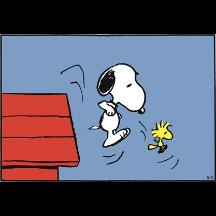snoopy: (88, 62, 146, 148)
